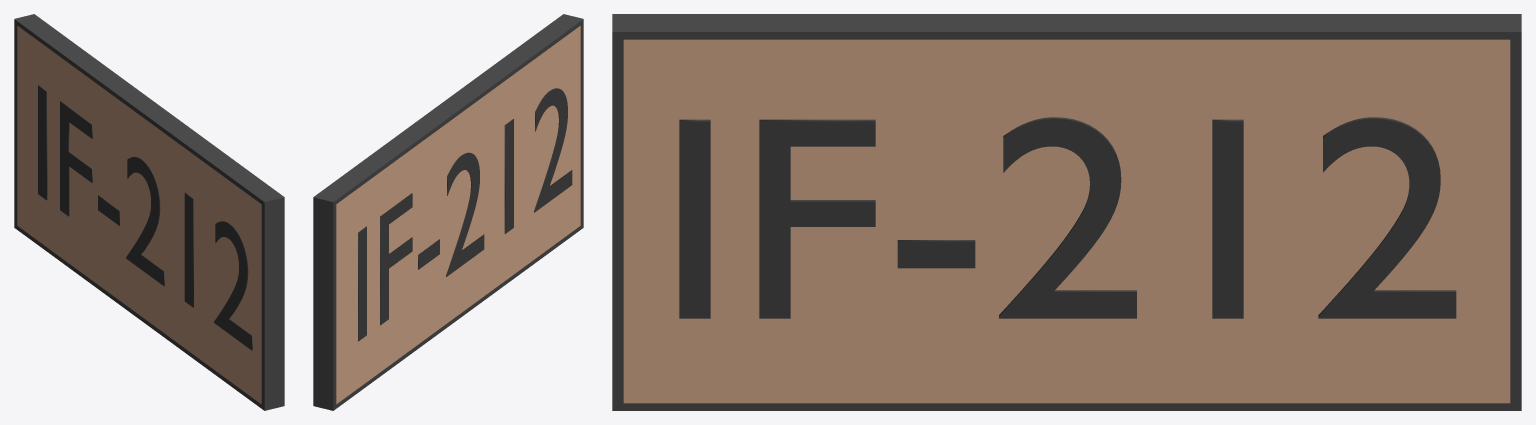
3 views of the same model, side by side, from view 1: azimuth 30°, elevation 25°; view 2: azimuth 150°, elevation 25°; view 3: azimuth 270°, elevation 25° (orthographic). The views are drawn at different scales.
Parts seen in each view (by area): view 1: Cube, Text.001; view 2: Cube, Text.001; view 3: Cube, Text.
Part boxes in pixels (x1,y1,x2,y2): Cube: (14,14,284,410); Text.001: (38,85,252,350); Cube: (313,14,583,410); Text.001: (358,88,572,341); Cube: (612,14,1521,410); Text: (679,117,1456,318).
Bounding box in the file's own units: 11.55 × 102 × 222.
